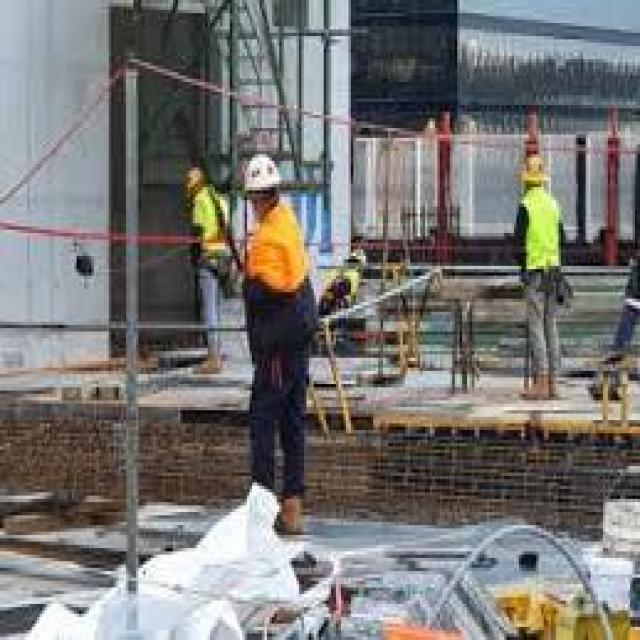Reflective-Jacket: (237, 200, 319, 315), (509, 190, 571, 296), (183, 180, 235, 276)
Safety-Helmet: (237, 144, 287, 203), (511, 148, 556, 194)
